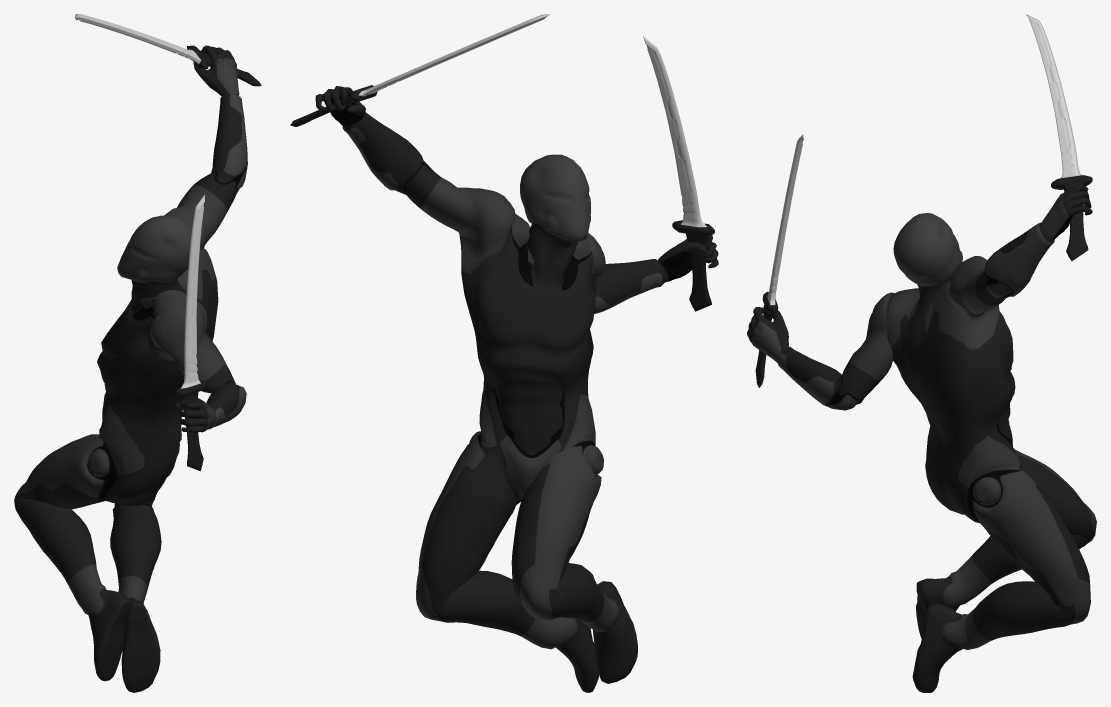
3 renders of one model, left to right at view 1: azimuth 30°, elevation 25°; view 2: azimuth 150°, elevation 25°; view 3: azimuth 270°, elevation 25°, orthographic. The views are drawn at different scales.
Visible parts, largest first — view 1: Cyborg_Ninja_Killer, Sword_l, Sword_l001; view 2: Cyborg_Ninja_Killer, Sword_l, Sword_l001; view 3: Cyborg_Ninja_Killer, Sword_l001, Sword_l.
Boxes of the visible parts, x1,y1,x2,y2 form: Cyborg_Ninja_Killer: (14,45,247,692); Sword_l: (175,194,207,471); Sword_l001: (74,14,261,86); Cyborg_Ninja_Killer: (315,86,718,692); Sword_l: (643,36,714,311); Sword_l001: (290,14,549,126); Cyborg_Ninja_Killer: (747,184,1096,692); Sword_l001: (1026,14,1092,260); Sword_l: (755,134,803,387).
Bounding box in the file's own units: 87.6 × 221 × 104.
Materials: 2 (2 with a texture image).
